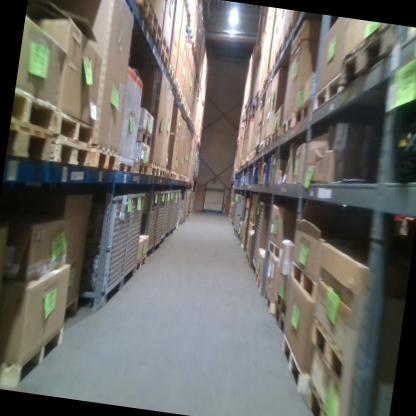pallet: (0, 309, 64, 396), (303, 311, 357, 390), (337, 20, 395, 92), (9, 83, 60, 138), (274, 328, 311, 397), (5, 116, 55, 166), (282, 255, 323, 310), (52, 106, 97, 146), (49, 137, 94, 171), (301, 382, 346, 416), (312, 69, 341, 117), (90, 144, 123, 172), (128, 0, 156, 33), (267, 302, 288, 340), (271, 283, 291, 318), (292, 98, 310, 136), (260, 284, 279, 315), (265, 235, 284, 263), (132, 126, 154, 148), (278, 111, 293, 143), (115, 154, 133, 176), (129, 160, 148, 180), (132, 252, 148, 275), (157, 44, 171, 70), (149, 25, 162, 49), (159, 36, 172, 58), (151, 17, 163, 38)
stillage: (72, 180, 135, 312), (120, 188, 147, 290), (246, 197, 275, 278), (138, 183, 162, 260), (151, 186, 168, 256), (158, 191, 172, 248), (164, 186, 176, 242), (168, 187, 180, 238), (235, 195, 249, 238), (231, 195, 243, 232), (177, 188, 189, 225), (172, 188, 181, 234), (228, 191, 238, 229)
